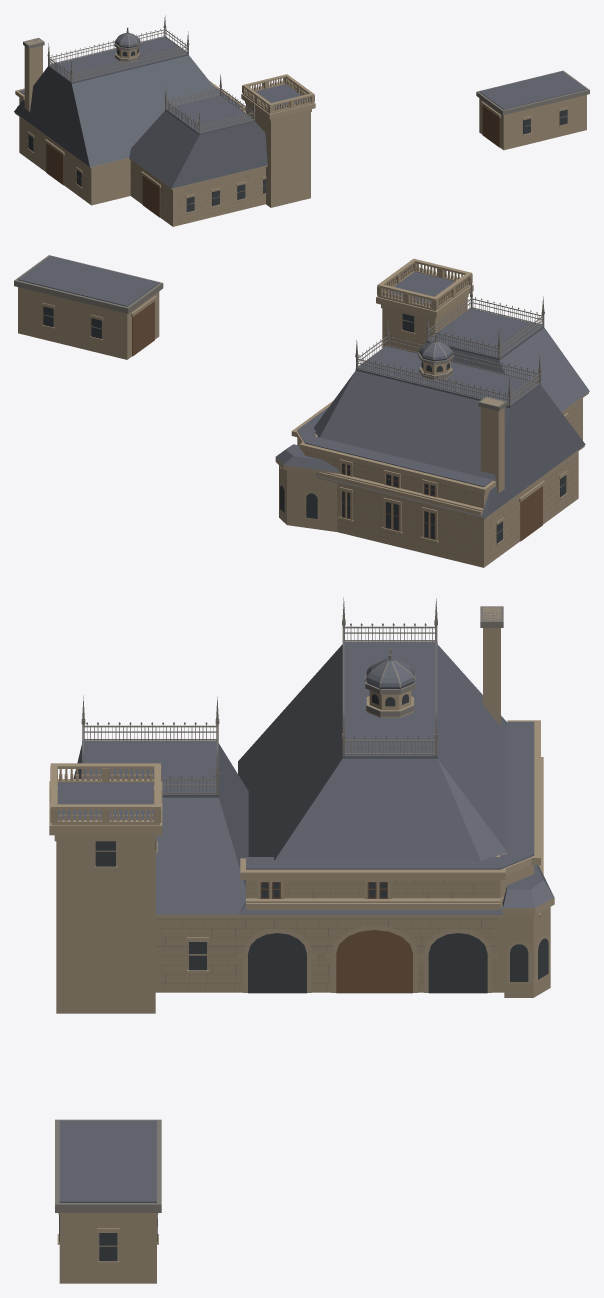
File: pullman_house_1729_prairie_ranges__draft_1904.glb
3 views of the same model, one above another, from view 1: azimuth 30°, elevation 25°; view 2: azimuth 150°, elevation 25°; view 3: azimuth 270°, elevation 25° (orthographic). The views are drawn at different scales.
Parts seen in each view (by area): view 1: pullman_house_1729_prairie_ranges__draft_1904; view 2: pullman_house_1729_prairie_ranges__draft_1904; view 3: pullman_house_1729_prairie_ranges__draft_1904.
Part boxes in pixels (left/top/right/bottom): pullman_house_1729_prairie_ranges__draft_1904: left=14, top=15, right=589, bottom=226; pullman_house_1729_prairie_ranges__draft_1904: left=14, top=255, right=589, bottom=567; pullman_house_1729_prairie_ranges__draft_1904: left=49, top=597, right=554, bottom=1283.
Bounding box in the file's own units: 46.52 × 13.05 × 22.37.
